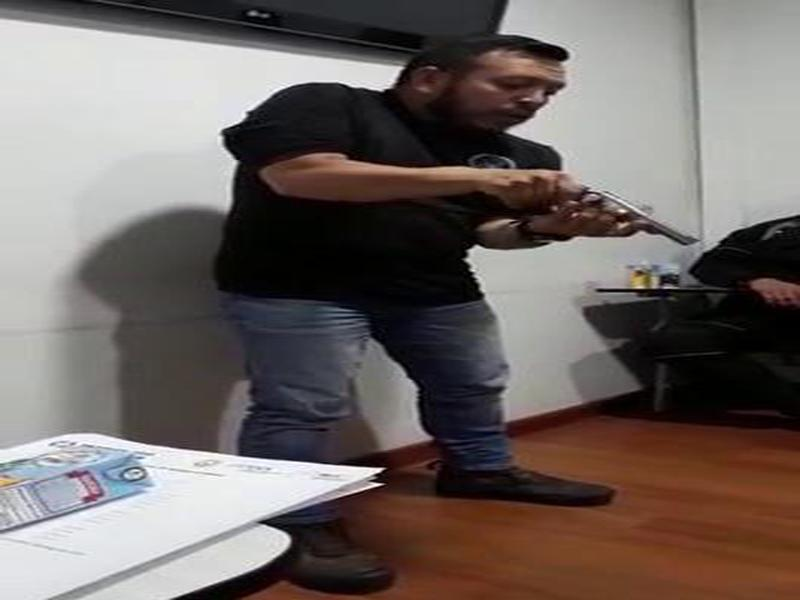Revolver: (518, 157, 717, 286)
